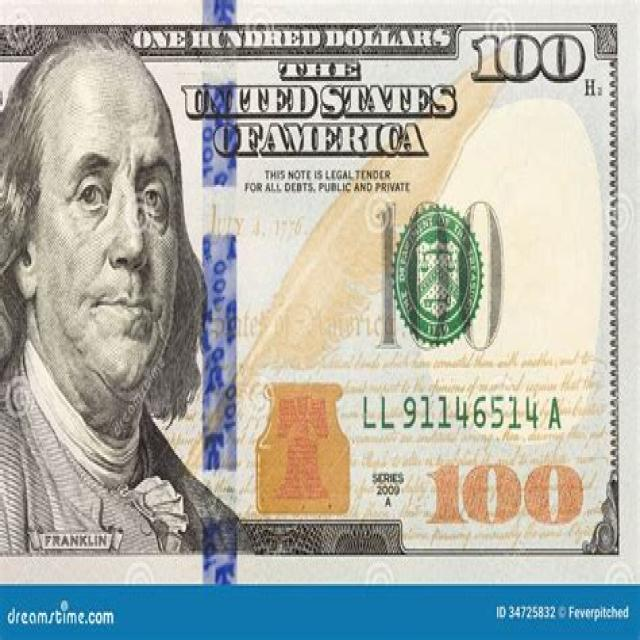Hundred: (0, 0, 640, 586)
